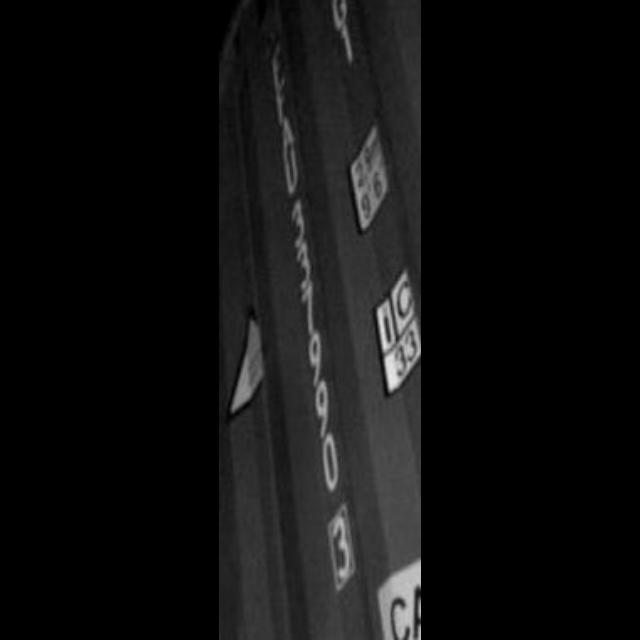0: (317, 428, 347, 498)
1: (332, 26, 362, 62)
2: (344, 148, 366, 190)
3: (324, 500, 360, 592), (284, 194, 312, 248), (293, 240, 315, 292), (386, 343, 412, 379), (403, 330, 421, 368)
6: (364, 164, 394, 206)
7: (294, 276, 326, 338)
9: (306, 369, 336, 439), (305, 326, 333, 384), (349, 192, 378, 224)
a: (275, 111, 297, 159), (406, 580, 422, 638)
c: (384, 584, 414, 640), (386, 278, 420, 320)
f: (254, 80, 312, 124), (260, 43, 302, 89)
g: (324, 1, 348, 23)
u: (278, 140, 302, 192)
